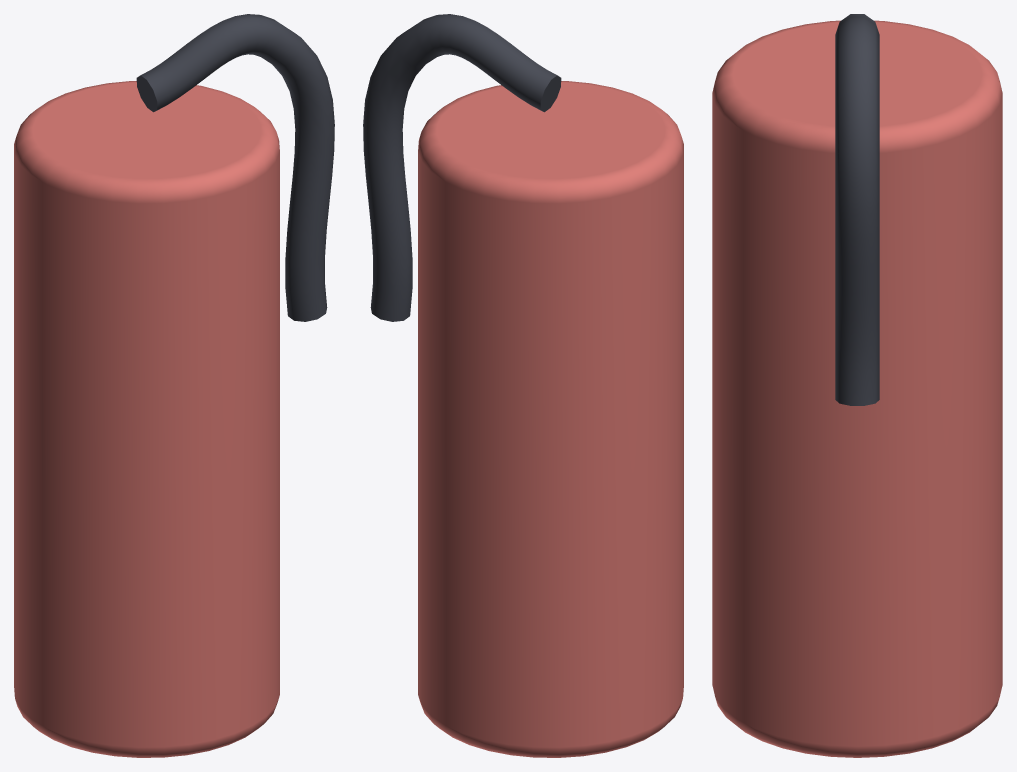
The model's file is officeFireExtinguisher.glb.
3 views of the same model, side by side, from view 1: azimuth 30°, elevation 25°; view 2: azimuth 150°, elevation 25°; view 3: azimuth 270°, elevation 25° (orthographic). The views are drawn at different scales.
Visible parts, largest first — view 1: Extinguisher, Hose; view 2: Extinguisher, Hose; view 3: Extinguisher, Hose.
Part boxes in pixels (x1,y1,x2,y2): Extinguisher: (14,81,279,757); Hose: (136,14,334,321); Extinguisher: (418,81,683,757); Hose: (363,14,561,321); Extinguisher: (712,20,1002,757); Hose: (835,14,879,405).
Size of the model in its own units: 0.5982 by 1.27 by 0.46.
